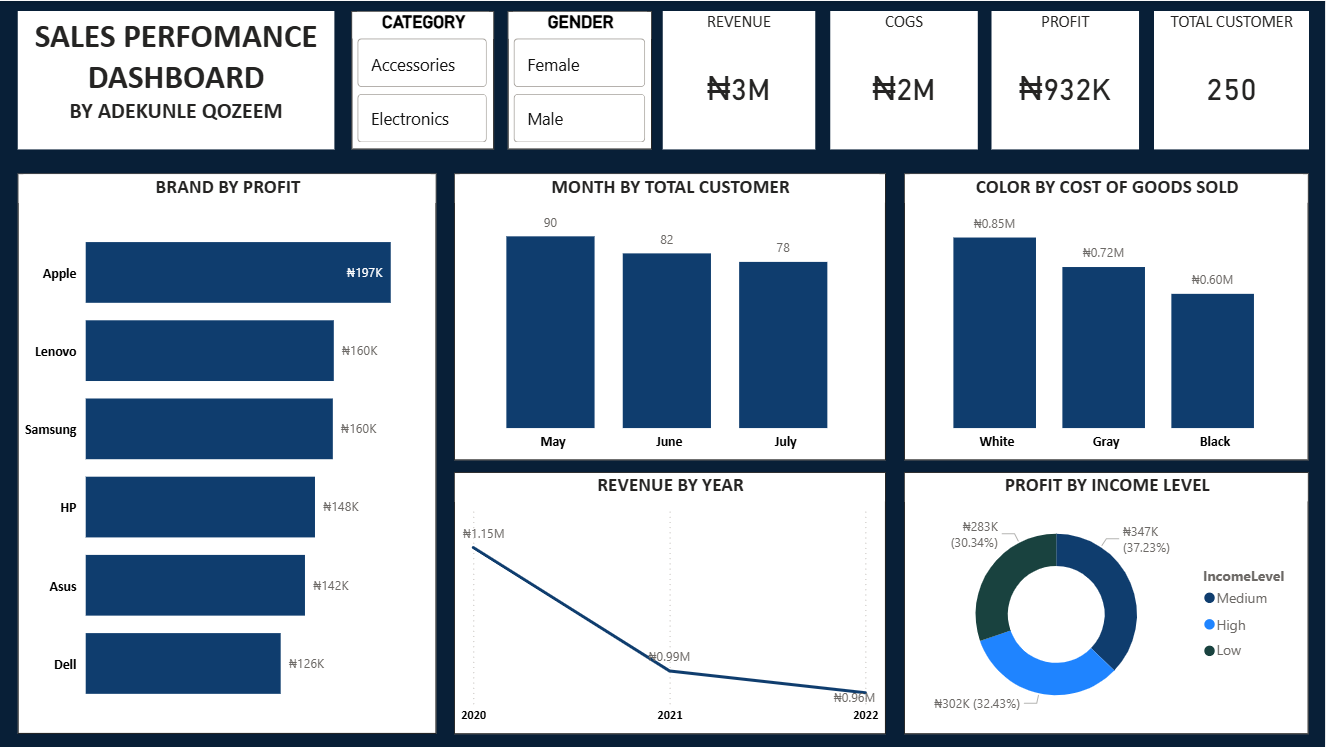

The dashboard page shown, as its layout file describes it:
{"tool":"powerbi","page":{"name":"Page 1","canvas":[1280,720],"ordinal":0},"visuals":[{"type":"barChart","title":"BRAND BY PROFIT","fields":{"Category":["Products.Brand"],"Y":["Sales.Measure Profit"]},"box":[18.2,166.6,404.3,540.6],"z":0},{"type":"columnChart","title":"COLOR BY COST OF GOODS SOLD","fields":{"Category":["Products.Color"],"Y":["Sales.Measure COGS"]},"box":[873.7,166.6,390.7,277.1],"z":1000},{"type":"lineChart","title":"REVENUE BY YEAR","fields":{"Category":["Customers.SignupDate.Variation.Date Hierarchy.Year"],"Y":["Sales.Measure Revenue"]},"box":[439.1,454.3,416.4,252.9],"z":2000},{"type":"columnChart","title":"MONTH BY TOTAL CUSTOMER","fields":{"Category":["Customers.SignupDate.Variation.Date Hierarchy.Month"],"Y":["Customers.Measure Total Customer"]},"box":[439.1,166.6,416.4,277.1],"z":3000},{"type":"donutChart","title":"PROFIT BY INCOME  LEVEL","fields":{"Category":["Customers.IncomeLevel"],"Y":["Sales.Measure Profit"]},"box":[873.7,454.3,390.7,252.9],"z":4000},{"type":"textbox","box":[18.2,9.1,305.9,133.3],"z":5000},{"type":"advancedSlicerVisual","title":"CATEGORY","fields":{"Values":["Products.Category"]},"box":[340.7,9.1,137.8,133.3],"z":6000},{"type":"advancedSlicerVisual","title":"GENDER","fields":{"Values":["Customers.Gender"]},"box":[490.6,9.1,139.3,133.3],"z":7000},{"type":"card","title":"REVENUE","fields":{"Values":["Sum(Sales.Revenue)"]},"box":[640.5,9.1,146.9,133.3],"z":7001},{"type":"card","title":"COGS","fields":{"Values":["Sum(Sales.COGS)"]},"box":[802.5,9.1,142.3,133.3],"z":7002},{"type":"card","title":"PROFIT","fields":{"Values":["Sum(Sales.Profit)"]},"box":[958.5,9.1,142.3,133.3],"z":7003},{"type":"card","title":"TOTAL CUSTOMER","fields":{"Values":["Customers.Measure Total Customer"]},"box":[1114.5,9.1,149.9,133.3],"z":7004}]}

Visuals, with their boxes in screenshot pixels (x1, y1, x2, y2), scaled from the page's 1280x720 canvas onto the 1326x747 screenshot:
"BRAND BY PROFIT" barChart: Rect(19, 173, 438, 734)
"COLOR BY COST OF GOODS SOLD" columnChart: Rect(905, 173, 1310, 460)
"REVENUE BY YEAR" lineChart: Rect(455, 471, 886, 734)
"MONTH BY TOTAL CUSTOMER" columnChart: Rect(455, 173, 886, 460)
"PROFIT BY INCOME  LEVEL" donutChart: Rect(905, 471, 1310, 734)
textbox: Rect(19, 9, 336, 148)
"CATEGORY" advancedSlicerVisual: Rect(353, 9, 496, 148)
"GENDER" advancedSlicerVisual: Rect(508, 9, 653, 148)
"REVENUE" card: Rect(664, 9, 816, 148)
"COGS" card: Rect(831, 9, 979, 148)
"PROFIT" card: Rect(993, 9, 1140, 148)
"TOTAL CUSTOMER" card: Rect(1155, 9, 1310, 148)
